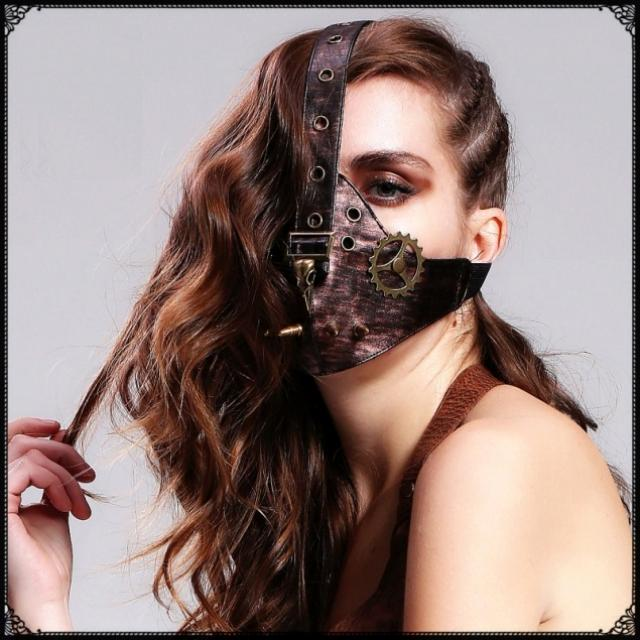mask: (275, 79, 453, 358)
